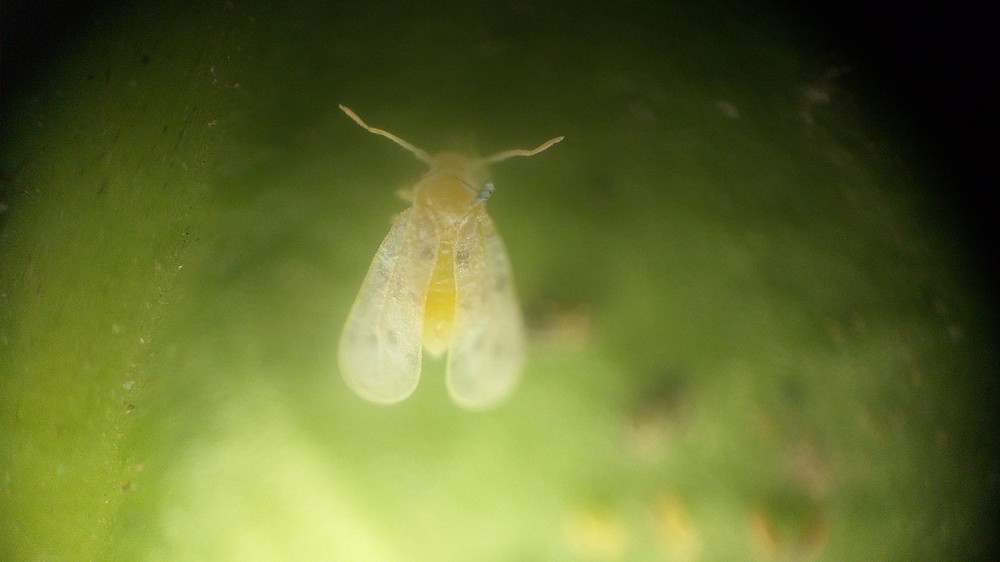Mosca Blanca: (294, 86, 566, 423)
